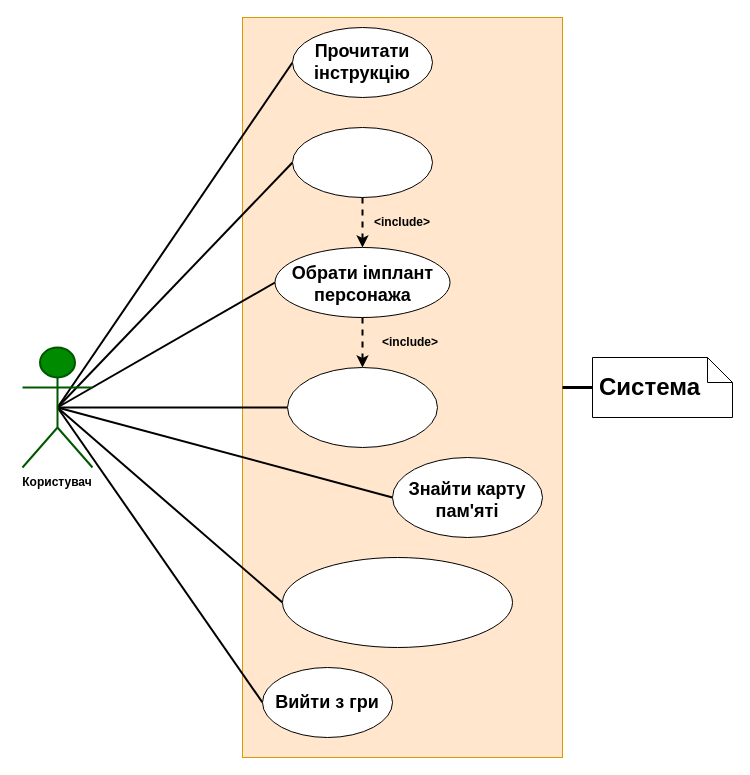
This 750x775 diagram has some shape labels left out. Each missing label, with the centre of its shape:
Почати гру: the point at 362,162
Проходити певний рівень: the point at 362,407
Читати повідомлення про закінчення гри: the point at 397,602
